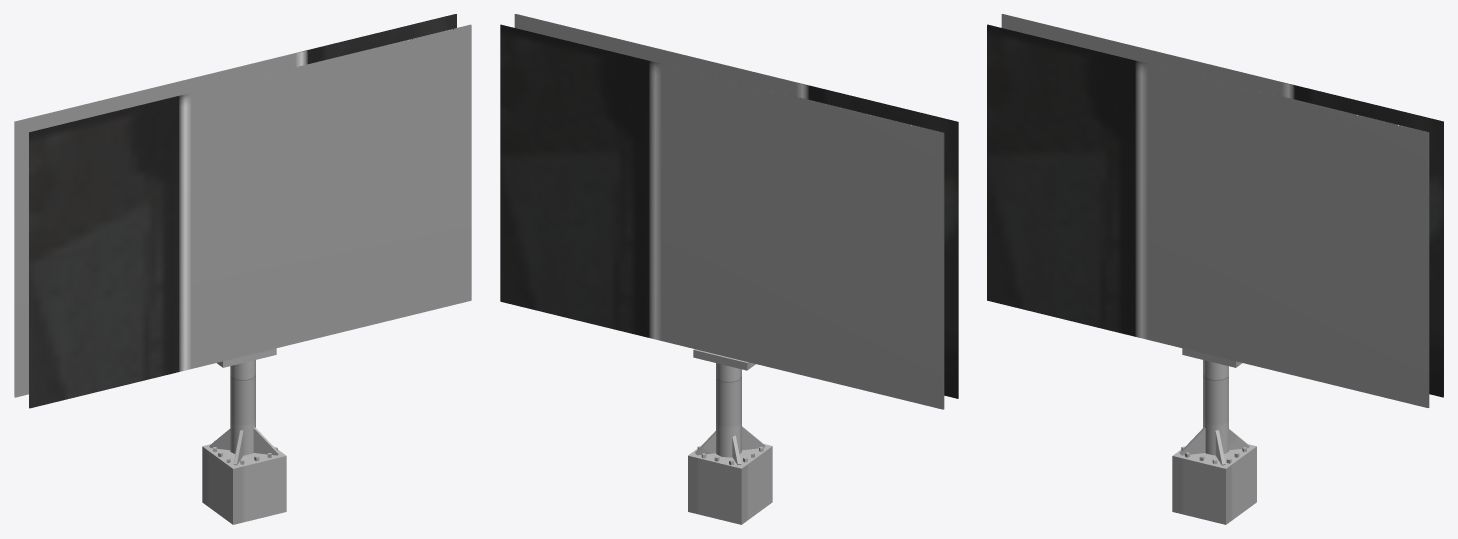
File: bz_banner_01.fbx
The picture shows the model from 3 angles, left to right: view 1: azimuth 30°, elevation 25°; view 2: azimuth 150°, elevation 25°; view 3: azimuth 330°, elevation 25°; orthographic projection.
Visible parts, largest first — view 1: bz_banner_01, bz_banner_02, bz_banner_pipe; view 2: bz_banner_02, bz_banner_01, bz_banner_pipe; view 3: bz_banner_01, bz_banner_02, bz_banner_pipe.
Boxes of the visible parts, x1=… form: bz_banner_01: x1=29, y1=24, x2=471, y2=408; bz_banner_02: x1=14, y1=14, x2=456, y2=397; bz_banner_pipe: x1=202, y1=348, x2=286, y2=524; bz_banner_02: x1=500, y1=24, x2=944, y2=409; bz_banner_01: x1=514, y1=14, x2=958, y2=398; bz_banner_pipe: x1=688, y1=349, x2=772, y2=524; bz_banner_01: x1=987, y1=24, x2=1429, y2=407; bz_banner_02: x1=1001, y1=14, x2=1443, y2=397; bz_banner_pipe: x1=1172, y1=348, x2=1256, y2=524.
Bounding box in the file's own units: 4.95 × 4.64 × 0.6.
